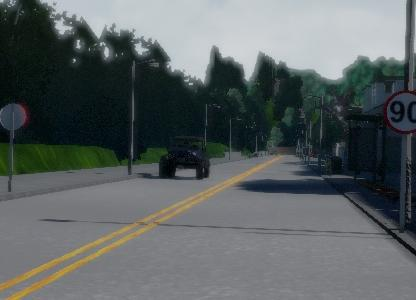Speed_90: (382, 88, 416, 134)
